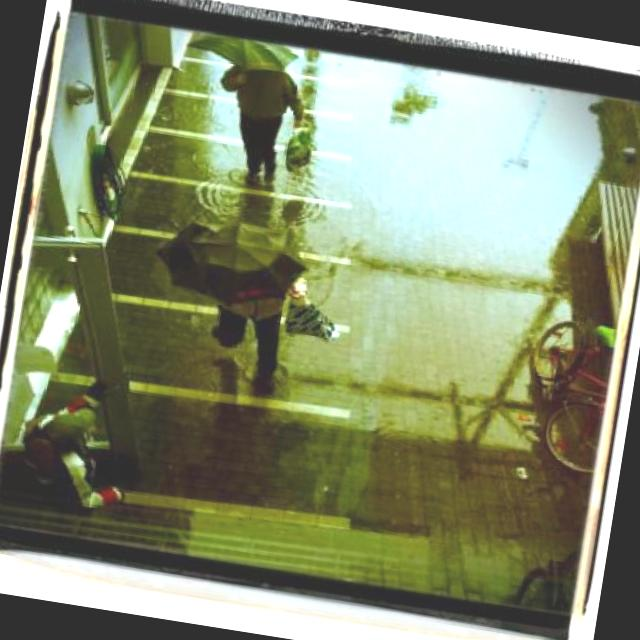Person: (198, 48, 320, 182), (202, 260, 316, 395), (20, 385, 137, 507)
